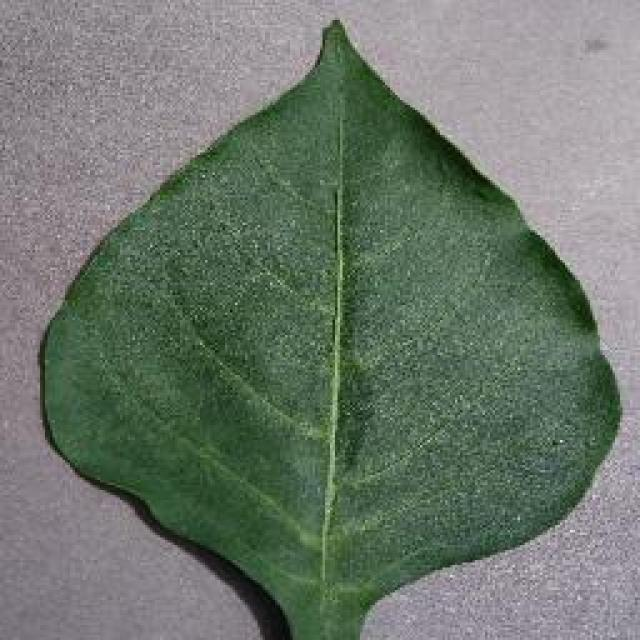Leaf: (21, 2, 635, 632)
